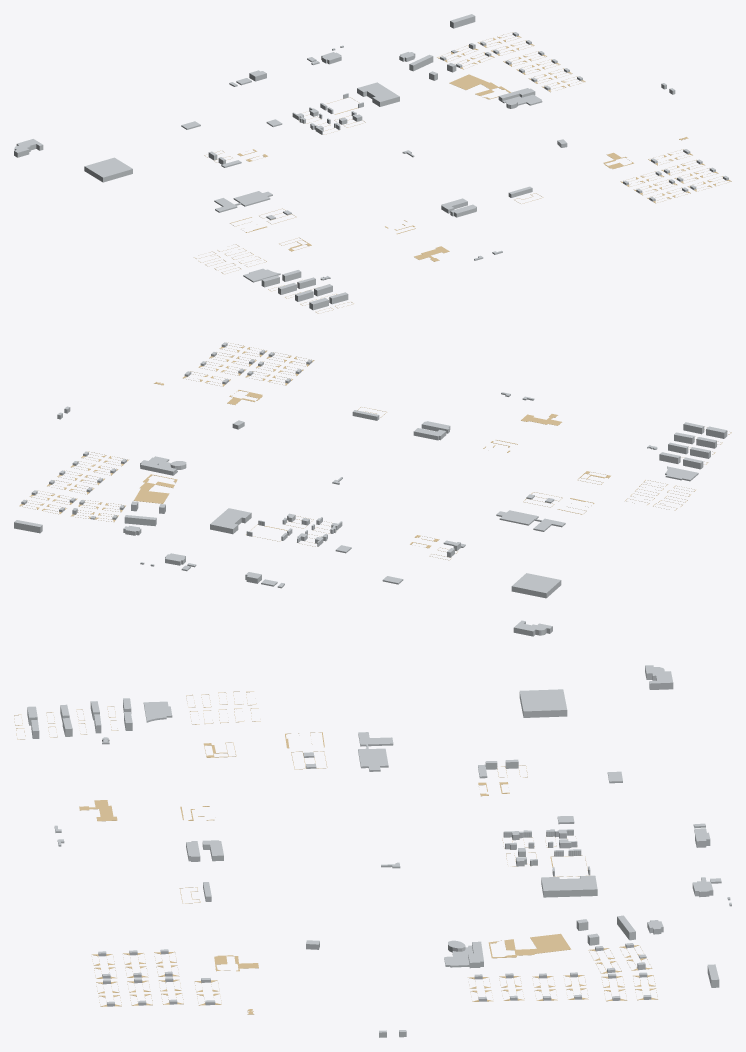
File: SEU_OSM_MASSING_v02.glb
The picture shows the model from 3 angles, top to bottom: view 1: azimuth 30°, elevation 25°; view 2: azimuth 150°, elevation 25°; view 3: azimuth 270°, elevation 25°; orthographic projection. The views are drawn at different scales.
Visible parts, largest first — view 1: SEU_B_OSMWAY_1488713409, SEU_B_OSMWAY_1056927514, SEU_B_OSMWAY_300030325; view 2: SEU_B_OSMWAY_1488713409, SEU_B_OSMWAY_1056927514, SEU_B_OSMWAY_300030325; view 3: SEU_B_OSMWAY_1488713409, SEU_B_OSMWAY_1056927514, SEU_B_OSMWAY_300030325.
Boxes of the visible parts, x1,y1,x2,y2 form: SEU_B_OSMWAY_1488713409: [84, 157, 132, 182]; SEU_B_OSMWAY_1056927514: [357, 82, 399, 106]; SEU_B_OSMWAY_300030325: [214, 191, 272, 212]; SEU_B_OSMWAY_1488713409: [511, 573, 561, 598]; SEU_B_OSMWAY_1056927514: [210, 508, 251, 534]; SEU_B_OSMWAY_300030325: [496, 510, 565, 531]; SEU_B_OSMWAY_1488713409: [519, 689, 567, 717]; SEU_B_OSMWAY_1056927514: [541, 875, 597, 897]; SEU_B_OSMWAY_300030325: [358, 732, 393, 771].
Bounding box in the file's own units: 1782 × 18 × 1477.
